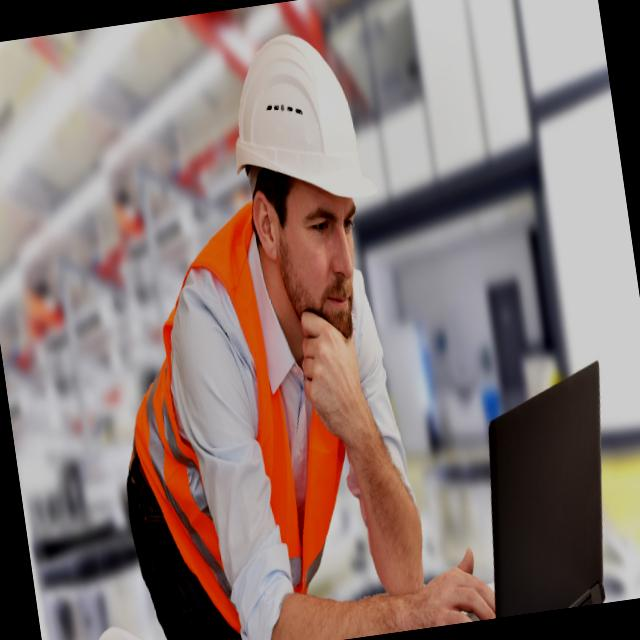helmet: (222, 37, 384, 212)
no-goggles: (288, 186, 366, 248)
vest: (93, 175, 372, 622)
